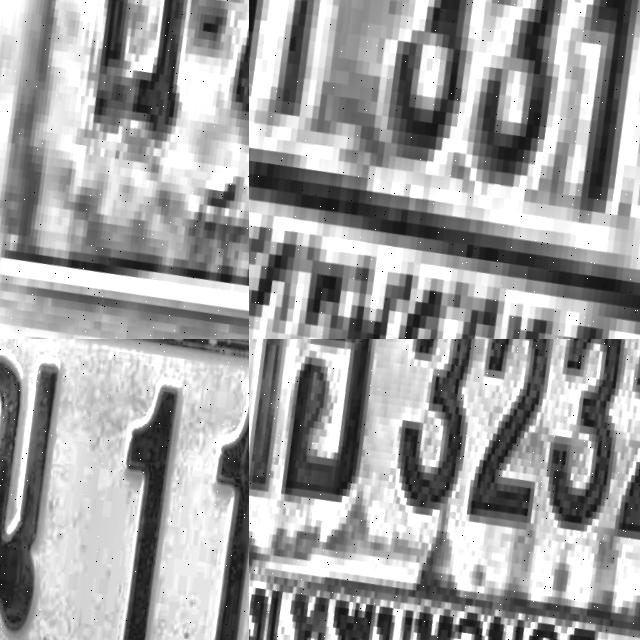license-plate: (249, 0, 640, 339), (249, 339, 640, 640), (0, 0, 249, 339), (0, 339, 249, 640)
